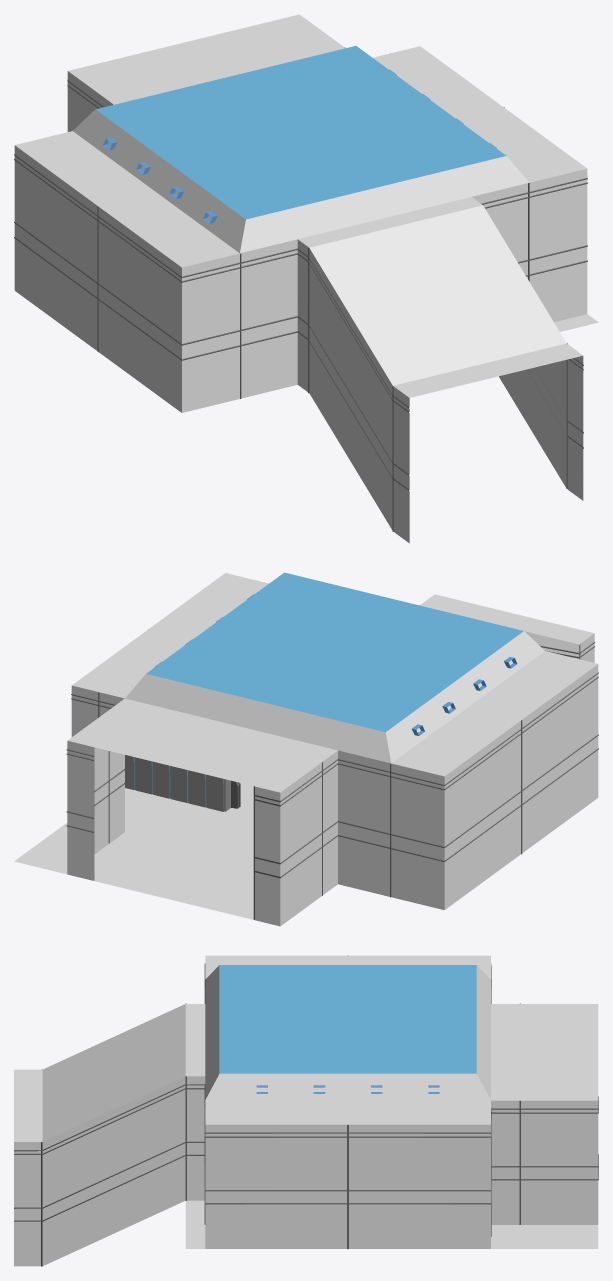
The model's file is ServerRoom.fbx.
3 views of the same model, one above another, from view 1: azimuth 30°, elevation 25°; view 2: azimuth 150°, elevation 25°; view 3: azimuth 270°, elevation 25° (orthographic). The views are drawn at different scales.
Visible parts, largest first — view 1: Server_Ceiling, Server_Walls; view 2: Server_Ceiling, Server_Walls, Server_Floor, Servers; view 3: Server_Walls, Server_Ceiling, Server_Floor.
Boxes of the visible parts, x1=… form: Server_Ceiling: x1=15, y1=14, x2=586, y2=397; Server_Walls: x1=14, y1=47, x2=587, y2=543; Server_Ceiling: x1=67, y1=572, x2=597, y2=792; Server_Walls: x1=66, y1=605, x2=598, y2=926; Server_Floor: x1=14, y1=762, x2=390, y2=920; Servers: x1=124, y1=755, x2=240, y2=811; Server_Walls: x1=14, y1=955, x2=598, y2=1266; Server_Ceiling: x1=14, y1=955, x2=598, y2=1141; Server_Floor: x1=185, y1=1124, x2=598, y2=1248.
Size of the model in its own units: 14.04 by 8.14 by 20.46.
